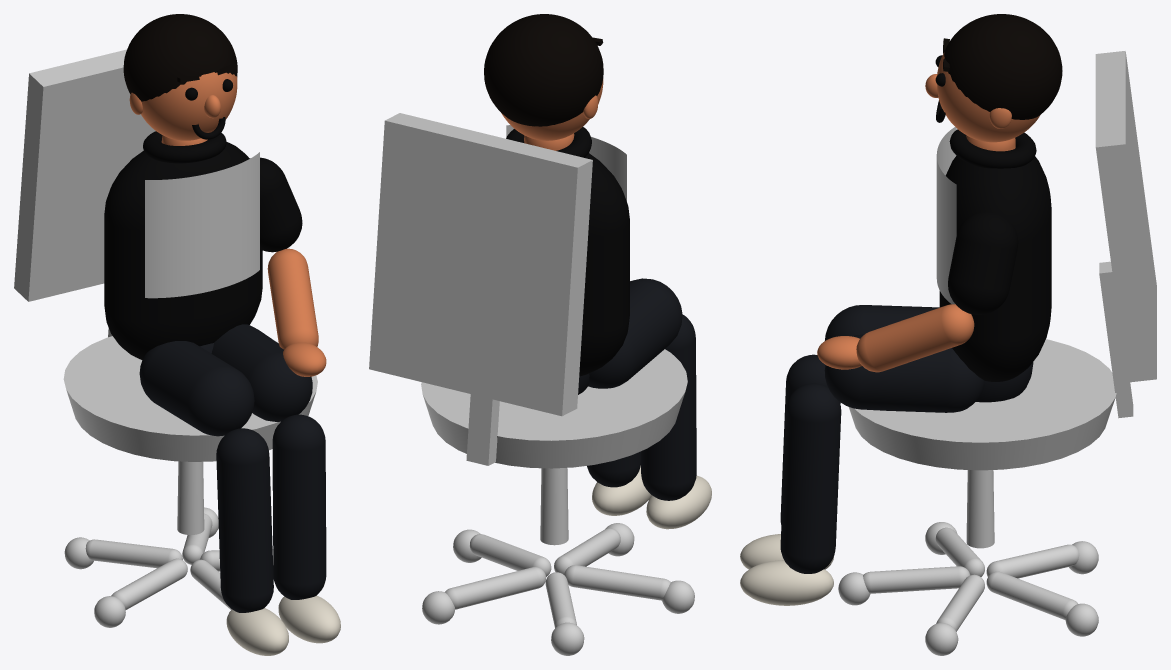
The model's file is persona-sentada.obj.
The picture shows the model from 3 angles, left to right: view 1: azimuth 30°, elevation 25°; view 2: azimuth 150°, elevation 25°; view 3: azimuth 270°, elevation 25°; orthographic projection. The views are drawn at different scales.
Parts seen in each view (by area): view 1: respaldo, torso, logo, cojin_asiento, gemelo_d, gemelo_i, muslo_i, pelo, muslo_d, cabeza, antebrazo_d, manga_d (+11 smaller); view 2: respaldo, cojin_asiento, pelo, torso, gemelo_i, muslo_i, brazo_base_4, brazo_base_2, columna, soporte_respaldo, zapatilla_i, brazo_base_1 (+12 smaller); view 3: cojin_asiento, torso, respaldo, gemelo_d, pelo, muslo_d, manga_d, antebrazo_d, zapatilla_d, logo, cabeza, brazo_base_0 (+16 smaller).
Boxes of the visible parts, box(x1,y1,x2,y2) form: respaldo: box(14, 49, 155, 301); torso: box(104, 142, 262, 360); logo: box(145, 152, 259, 298); cojin_asiento: box(63, 336, 317, 461); gemelo_d: box(272, 414, 326, 599); gemelo_i: box(216, 428, 273, 612); muslo_i: box(139, 341, 254, 436); pelo: box(123, 14, 237, 101); muslo_d: box(211, 324, 312, 421); cabeza: box(141, 72, 237, 140); antebrazo_d: box(267, 248, 318, 349); manga_d: box(249, 157, 302, 252); respaldo: box(369, 113, 592, 416); cojin_asiento: box(421, 349, 687, 468); pelo: box(484, 14, 603, 126); torso: box(579, 153, 629, 376); gemelo_i: box(641, 314, 696, 500); muslo_i: box(588, 278, 682, 388); brazo_base_4: box(564, 565, 670, 600); brazo_base_2: box(445, 567, 546, 609); columna: box(540, 468, 568, 545); soporte_respaldo: box(466, 394, 499, 465); zapatilla_i: box(646, 475, 711, 529); brazo_base_1: box(470, 534, 551, 576); cojin_asiento: box(849, 339, 1116, 470); torso: box(939, 147, 1051, 381); respaldo: box(1095, 51, 1156, 382); gemelo_d: box(780, 383, 841, 573); pelo: box(944, 14, 1062, 119); muslo_d: box(824, 334, 984, 412); manga_d: box(948, 211, 1018, 314); antebrazo_d: box(856, 304, 974, 372); zapatilla_d: box(740, 560, 833, 605); logo: box(936, 127, 956, 304); cabeza: box(937, 52, 1040, 142); brazo_base_0: box(863, 566, 970, 593).
Bounding box in the file's own units: 0.5415 × 1.28 × 0.8295.
